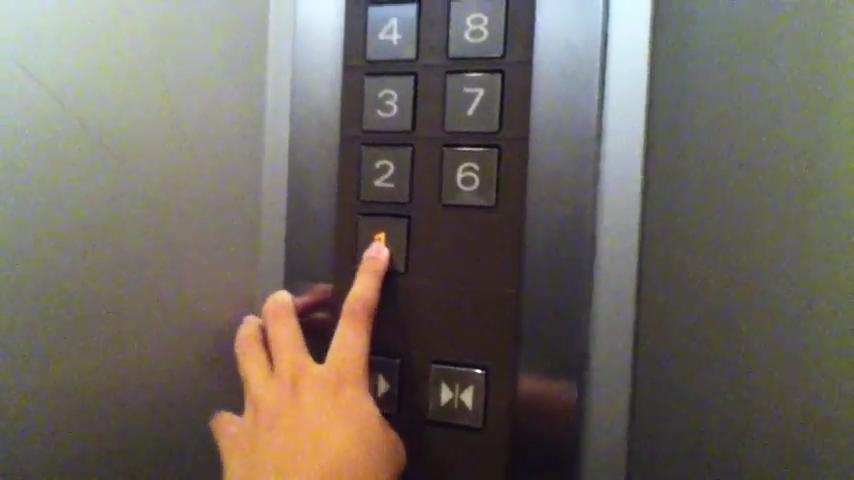2: (355, 142, 417, 206)
3: (357, 71, 421, 136)
4: (361, 1, 423, 65)
6: (435, 143, 502, 210)
7: (438, 68, 506, 138)
8: (442, 1, 511, 63)
close: (424, 360, 490, 431)
